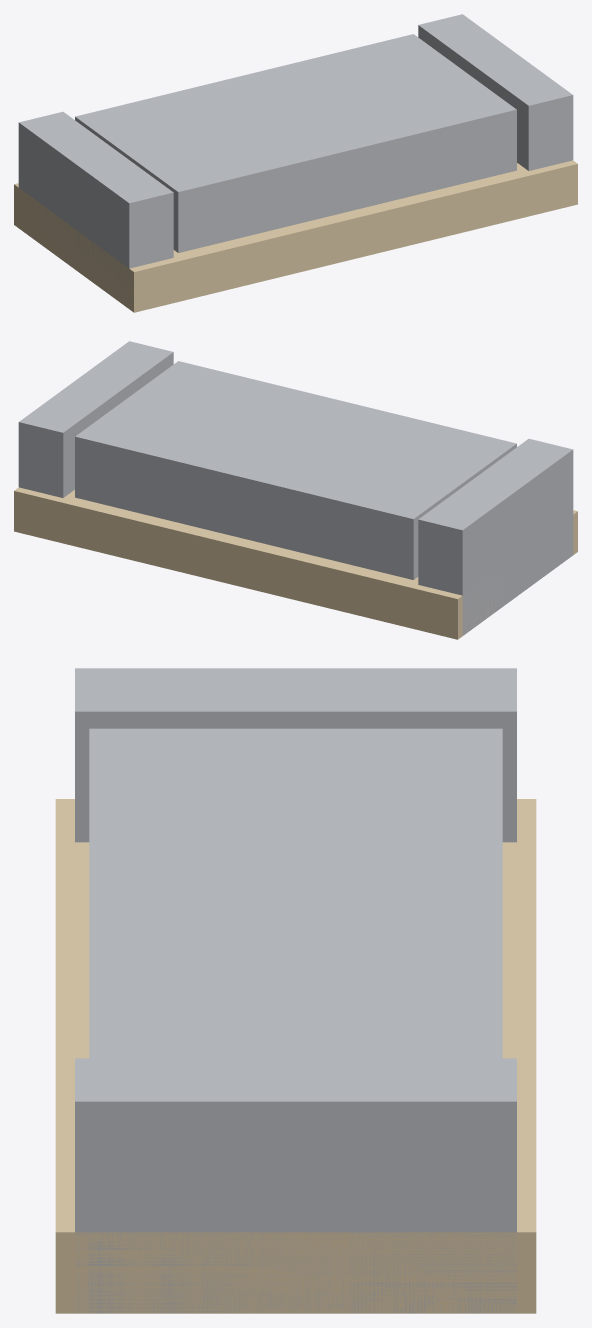
The model's file is crystal-3215.glb.
The picture shows the model from 3 angles, top to bottom: view 1: azimuth 30°, elevation 25°; view 2: azimuth 150°, elevation 25°; view 3: azimuth 270°, elevation 25°; orthographic projection. The views are drawn at different scales.
Size of the model in its own units: 0.0032 by 0.00073 by 0.0015.
